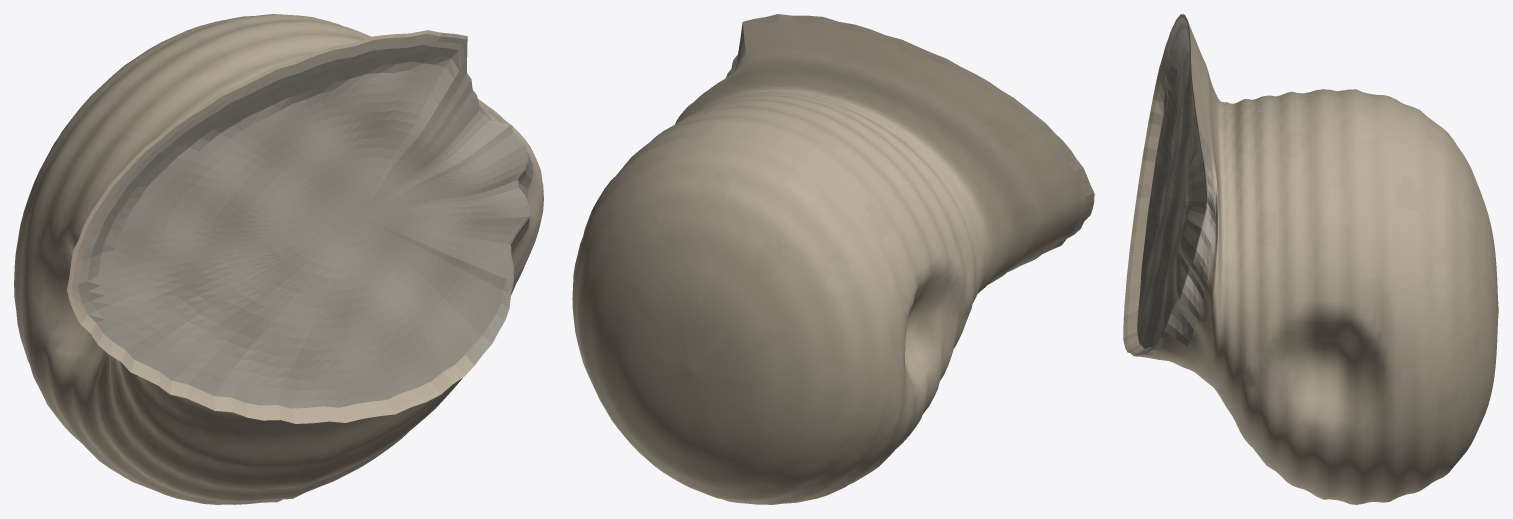
3 views of the same model, side by side, from view 1: azimuth 30°, elevation 25°; view 2: azimuth 150°, elevation 25°; view 3: azimuth 270°, elevation 25° (orthographic). The views are drawn at different scales.
Visible parts, largest first — view 1: coiled-shell-with-preserved-flare-and-mineral-fill; view 2: coiled-shell-with-preserved-flare-and-mineral-fill; view 3: coiled-shell-with-preserved-flare-and-mineral-fill.
Part boxes in pixels (x1,y1,x2,y2): coiled-shell-with-preserved-flare-and-mineral-fill: (14,14,543,504); coiled-shell-with-preserved-flare-and-mineral-fill: (572,14,1094,504); coiled-shell-with-preserved-flare-and-mineral-fill: (1123,14,1498,504).
Bounding box in the file's own units: 0.0295 × 0.029 × 0.023.
